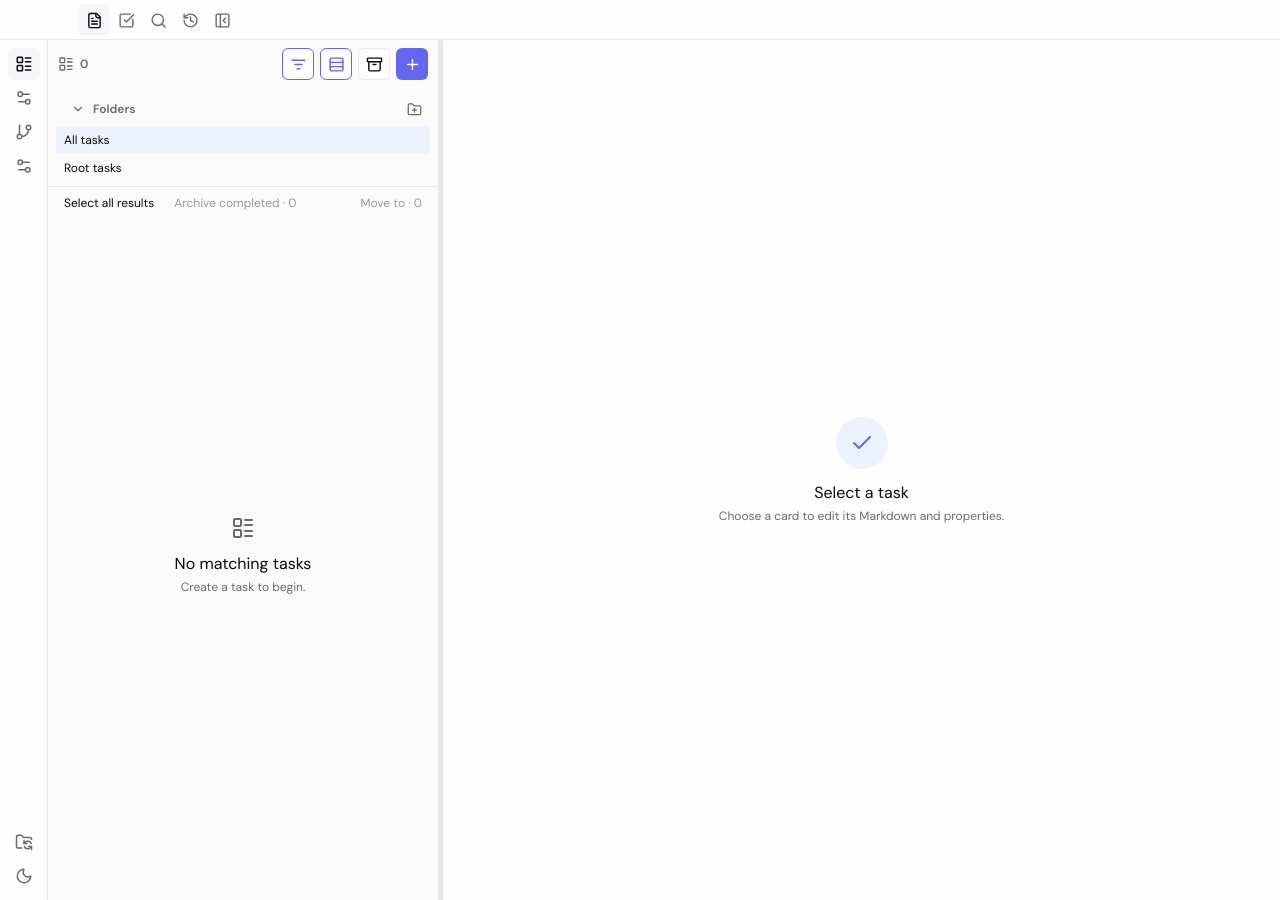
it: Taskmate application › restores saved filters, sorting, and compact cards
What coordinates should you click on to do the following:
click the button named "Open filters and sorting"
I would click on:
 (298, 64)
Its box is [282,48,314,80].
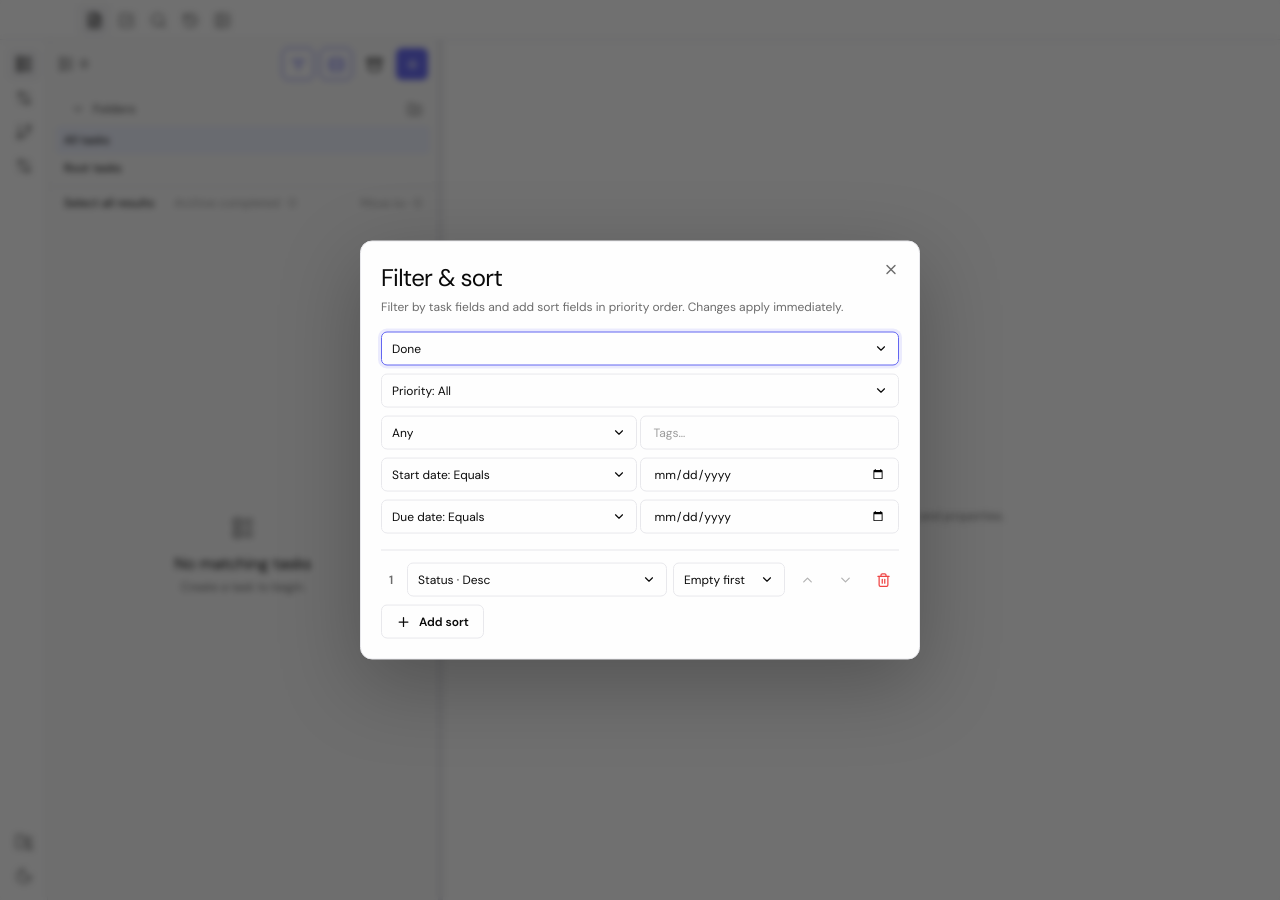
Check: the dropdown named "Status Filter" reads "Done", box [381,332,899,366]
Check: the dropdown named "Sort 1" reads "Status · Desc", box [407,562,667,596]
Check: the dropdown named "Empty last" reads "Empty first", box [673,562,785,596]
